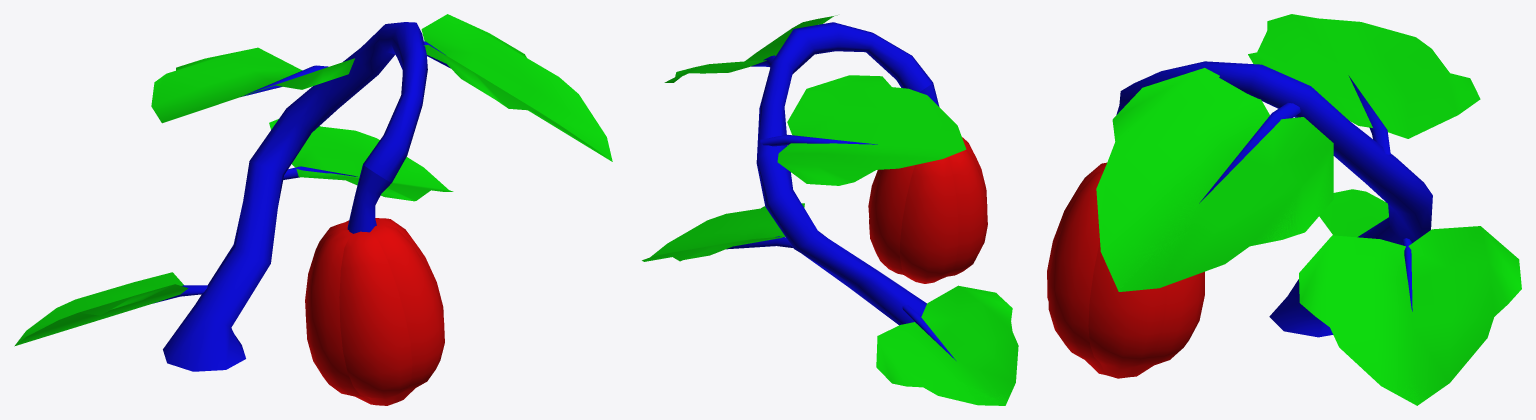
File: Pumpkin_4.fbx
3 renders of one model, left to right at view 1: azimuth 30°, elevation 25°; view 2: azimuth 150°, elevation 25°; view 3: azimuth 270°, elevation 25°, orthographic. The views are drawn at different scales.
Visible parts, largest first — view 1: BSTC_Pumpkin_4; view 2: BSTC_Pumpkin_4; view 3: BSTC_Pumpkin_4.
Boxes of the visible parts, left/top/right/bottom form: BSTC_Pumpkin_4: left=14, top=14, right=612, bottom=405; BSTC_Pumpkin_4: left=642, top=15, right=1018, bottom=405; BSTC_Pumpkin_4: left=1047, top=14, right=1521, bottom=405.
Bounding box in the file's own units: 84.23 × 53.16 × 64.43.
